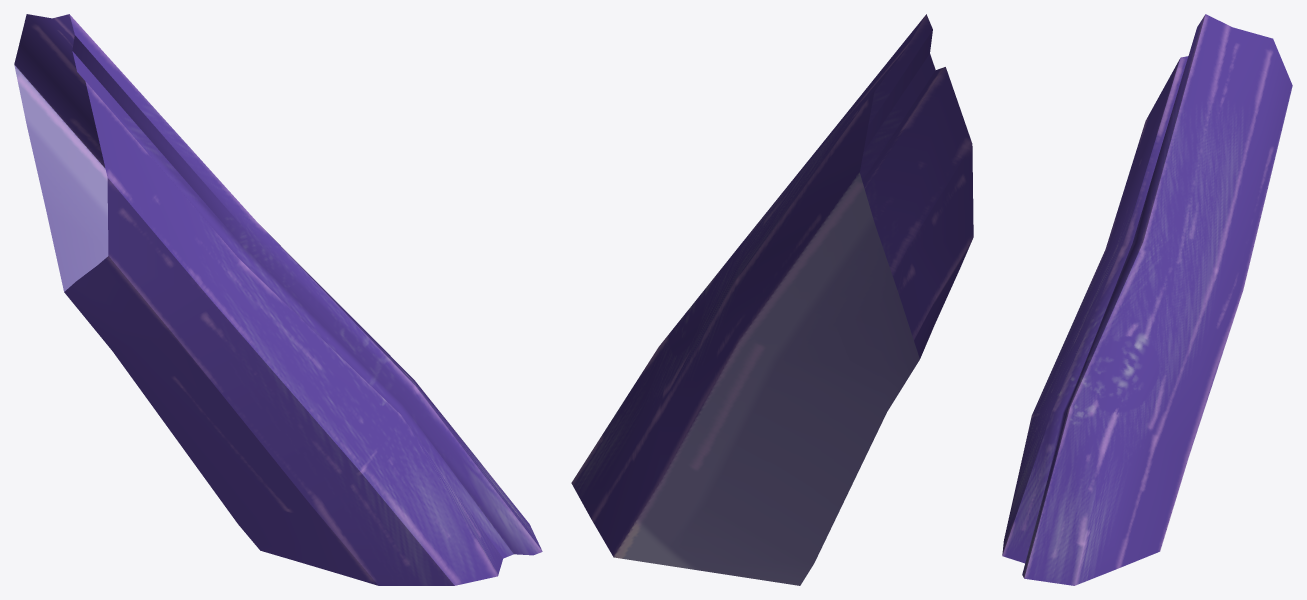
The model's file is Roca_Pilar_03.fbx.
The picture shows the model from 3 angles, left to right: view 1: azimuth 30°, elevation 25°; view 2: azimuth 150°, elevation 25°; view 3: azimuth 270°, elevation 25°; orthographic projection. The views are drawn at different scales.
Parts seen in each view (by area): view 1: polySurface2; view 2: polySurface2; view 3: polySurface2.
Boxes of the visible parts, box(x1,y1,x2,y2) form: polySurface2: box(14, 14, 542, 585); polySurface2: box(571, 14, 973, 585); polySurface2: box(1002, 14, 1292, 585).
Bounding box in the file's own units: 2.41 × 3.3 × 2.04.
